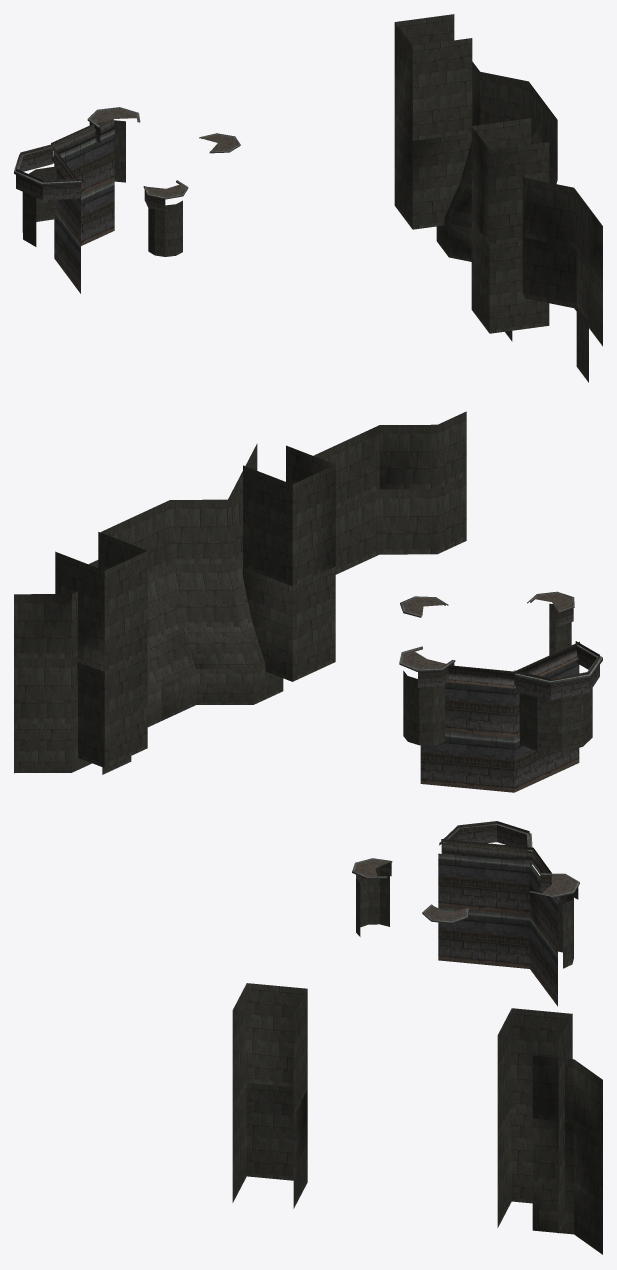
File: volcano_02_stone_01.FBX
3 renders of one model, top to bottom at view 1: azimuth 30°, elevation 25°; view 2: azimuth 150°, elevation 25°; view 3: azimuth 270°, elevation 25°, orthographic. The views are drawn at different scales.
Parts seen in each view (by area): view 1: stone01; view 2: stone01; view 3: stone01.
Boxes of the visible parts, left/top/right/bottom form: stone01: left=14, top=14, right=602, bottom=382; stone01: left=14, top=411, right=602, bottom=792; stone01: left=232, top=821, right=602, bottom=1254.
Bounding box in the file's own units: 114 × 49.45 × 113.
